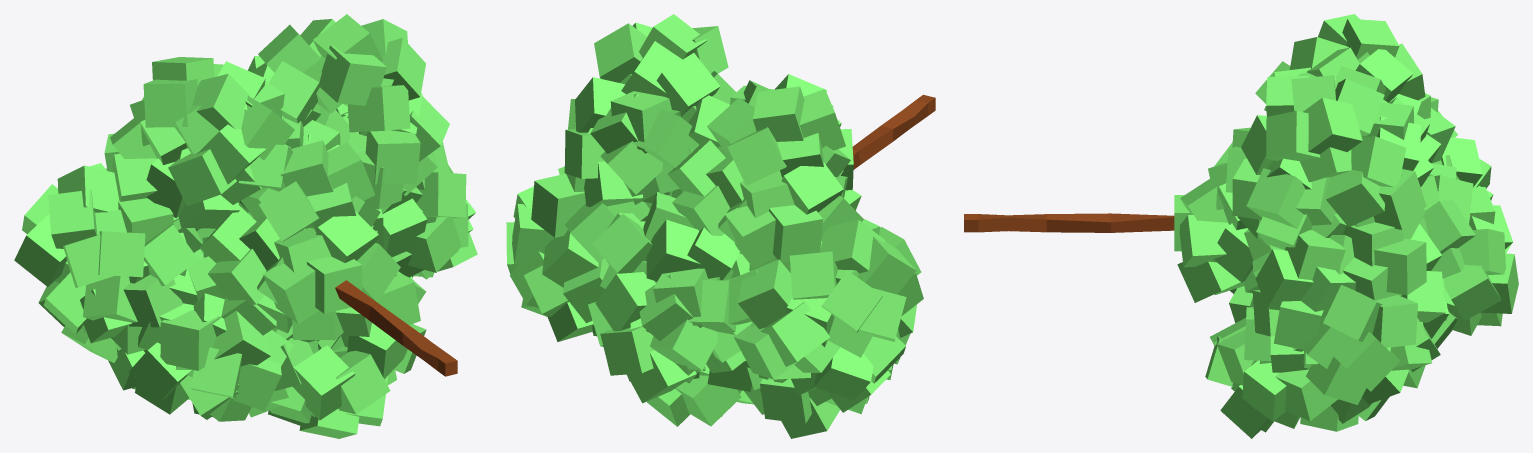
Rendered from Tree.fbx.
3 renders of one model, left to right at view 1: azimuth 30°, elevation 25°; view 2: azimuth 150°, elevation 25°; view 3: azimuth 270°, elevation 25°, orthographic. The views are drawn at different scales.
Visible parts, largest first — view 1: Tree_Leaves; view 2: Tree_Leaves; view 3: Tree_Leaves.
Boxes of the visible parts, x1=… form: Tree_Leaves: x1=14, y1=14, x2=477, y2=438; Tree_Leaves: x1=506, y1=14, x2=935, y2=438; Tree_Leaves: x1=964, y1=14, x2=1518, y2=438.
Size of the model in its own units: 8005 by 6849 by 6011.
